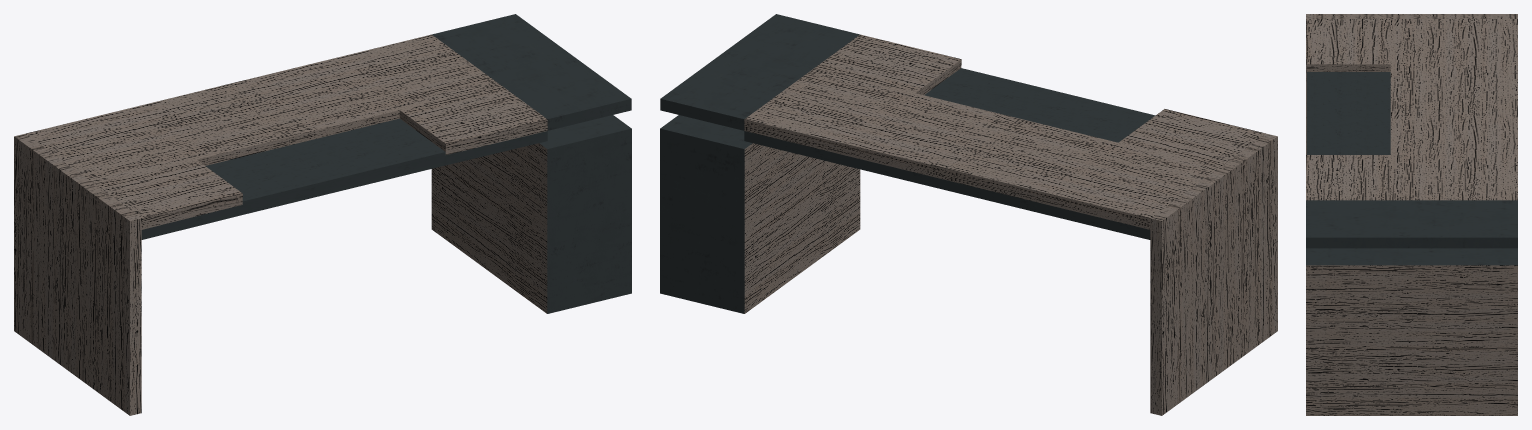
Rendered from Desk.fbx.
The picture shows the model from 3 angles, left to right: view 1: azimuth 30°, elevation 25°; view 2: azimuth 150°, elevation 25°; view 3: azimuth 270°, elevation 25°; orthographic projection. The views are drawn at different scales.
Visible parts, largest first — view 1: pCube4; view 2: pCube4; view 3: pCube4.
Boxes of the visible parts, x1=… form: pCube4: x1=14, y1=14, x2=631, y2=415; pCube4: x1=660, y1=14, x2=1277, y2=415; pCube4: x1=1306, y1=14, x2=1517, y2=415.
Size of the model in its own units: 2.5 by 0.9278 by 1.
